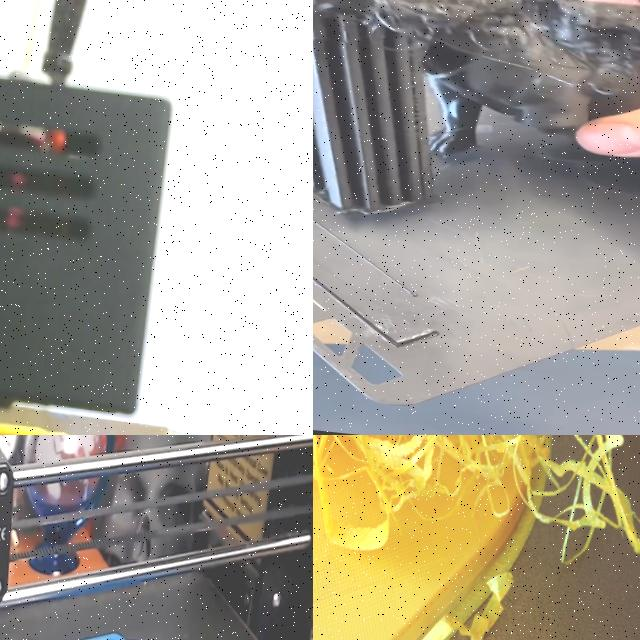spaghetti: (313, 435, 640, 565), (313, 0, 640, 102)
